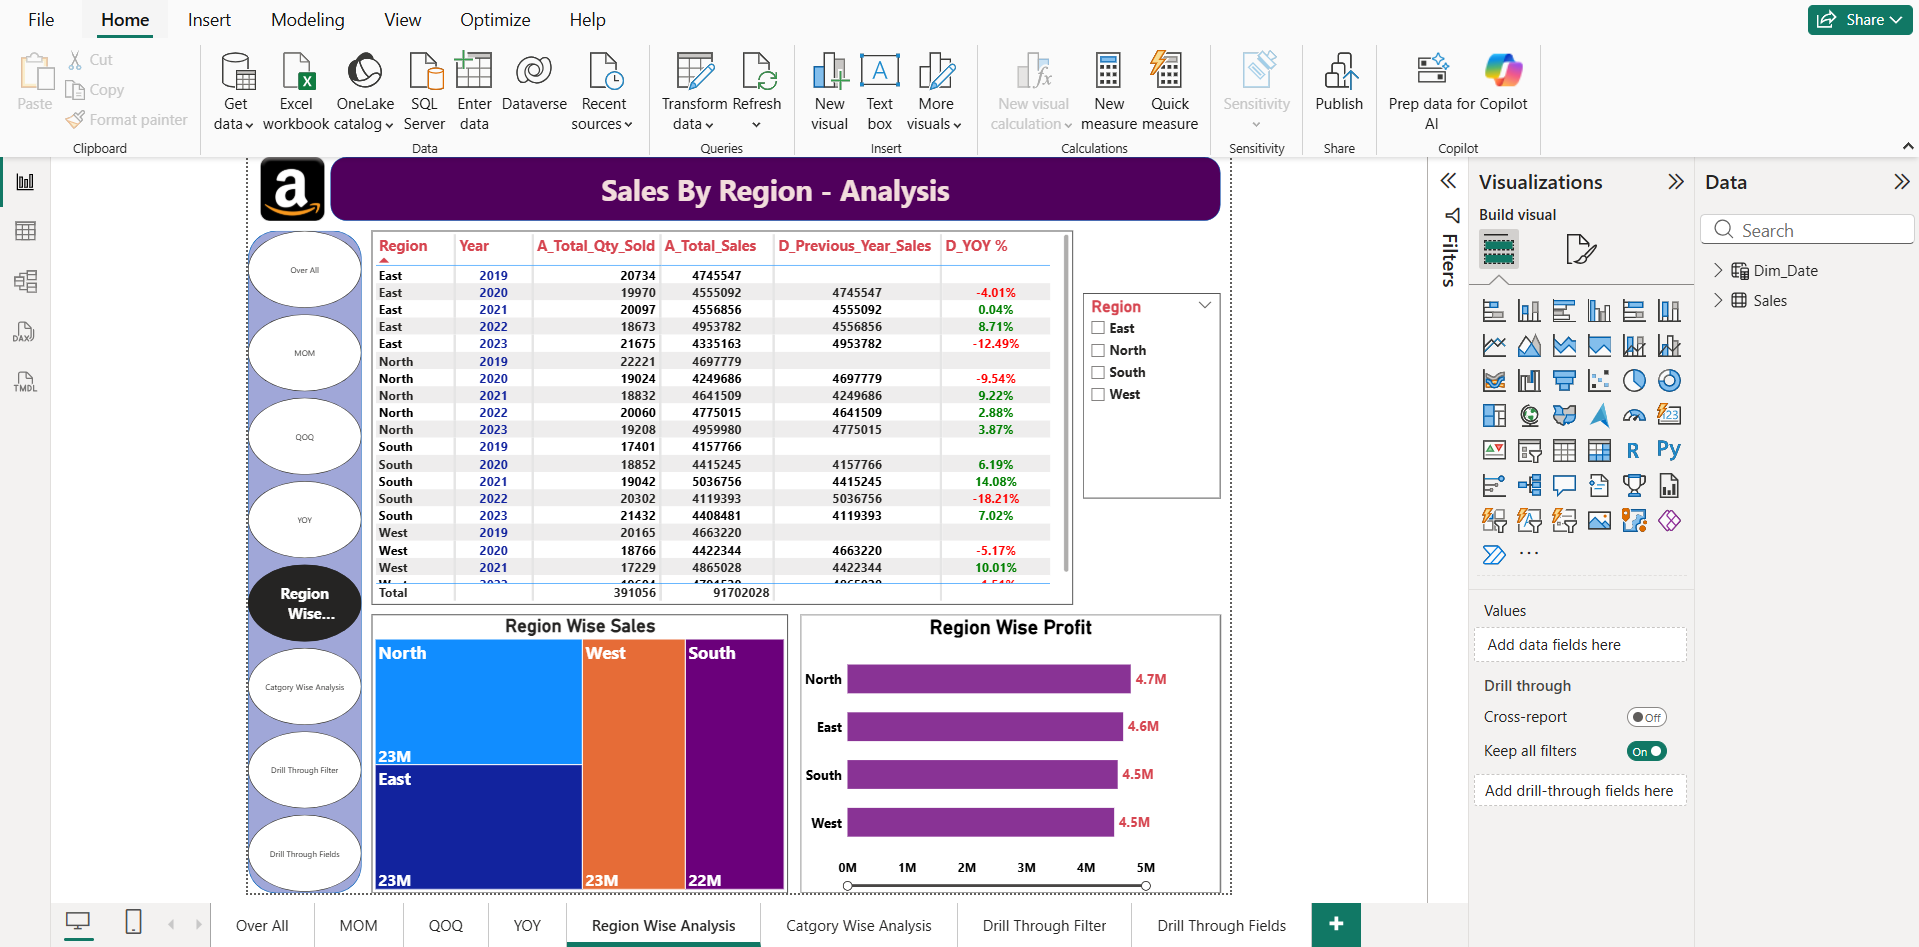

This screenshot's page, from the dashboard's own definition file:
{"tool":"powerbi","page":{"name":"Region Wise Analysis","canvas":[1600,1200],"ordinal":4},"visuals":[{"type":"image","box":[10.2,0,124.3,103.9],"z":0},{"type":"shape","box":[134.5,0,1451.1,103.9],"z":1000},{"type":"shape","box":[0,119.8,185.5,1080.2],"z":2000},{"type":"treemap","title":"Region Wise Sales","fields":{"Group":["Sales.Region"],"Values":["Sales.A_Total_Sales"]},"box":[201.8,745.9,678.7,454.5],"z":3000},{"type":"barChart","title":"Region Wise Profit","fields":{"Category":["Sales.Region"],"Y":["Sales.A_Total_Profit"]},"box":[900.8,745.9,684.8,454.5],"z":4000},{"type":"tableEx","fields":{"Values":["Sales.Region","Dim_Date.Year","Sales.A_Total_Qty_Sold","Sales.A_Total_Sales","Sales.D_Previous_Year_Sales","Sales.D_YOY %"]},"box":[201.8,120.2,1143.3,609.4],"z":5000},{"type":"slicer","fields":{"Values":["Sales.Region"]},"box":[1361.4,222.1,224.2,334.2],"z":6000},{"type":"pageNavigator","box":[0,120.2,185.5,1080.2],"z":7000}]}

Visuals, with their boxes on the page's 1600x1200 design canvas (x1, y1, x2, y2). These are canvas units, not pixel positions in the 1919x947 screenshot, which may show the page scaled, cropped or inside an application window:
image: 10/0/134/104
shape: 134/0/1586/104
shape: 0/120/186/1200
"Region Wise Sales" treemap: 202/746/880/1200
"Region Wise Profit" barChart: 901/746/1586/1200
tableEx - Sales.Region x Dim_Date.Year: 202/120/1345/730
slicer - Sales.Region: 1361/222/1586/556
pageNavigator: 0/120/186/1200
